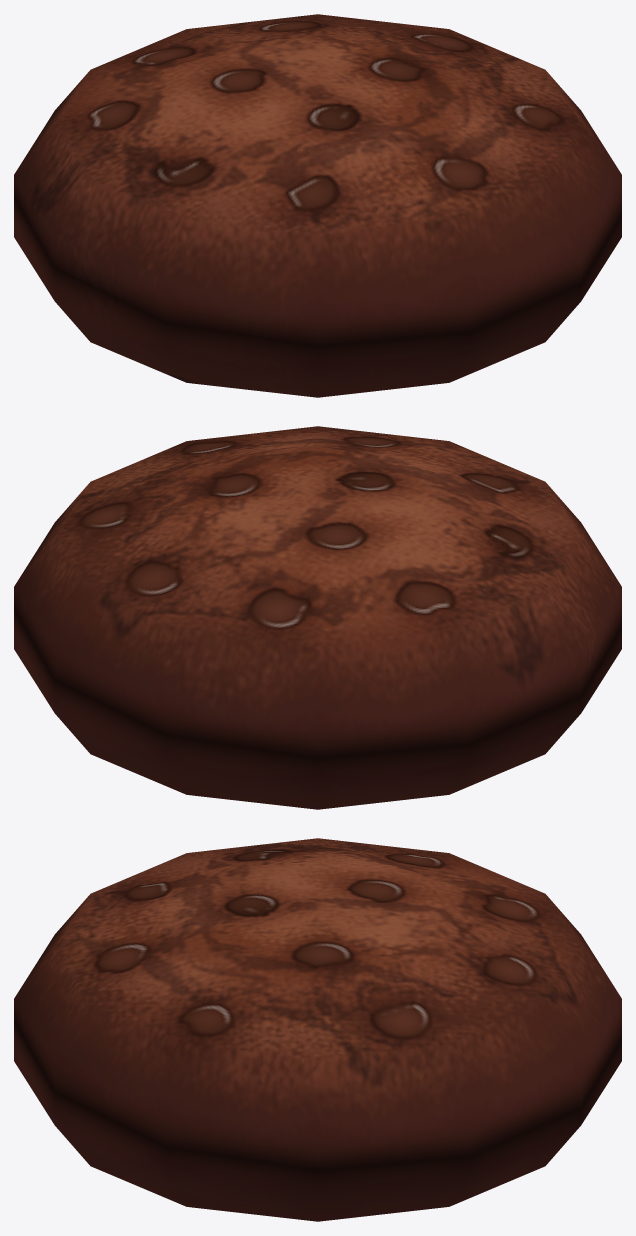
The model's file is 010-Cookies_01.FBX.
The picture shows the model from 3 angles, top to bottom: view 1: azimuth 30°, elevation 25°; view 2: azimuth 150°, elevation 25°; view 3: azimuth 270°, elevation 25°; orthographic projection.
Visible parts, largest first — view 1: 010-Cookies_01; view 2: 010-Cookies_01; view 3: 010-Cookies_01.
Boxes of the visible parts, box(x1,y1,x2,y2) form: 010-Cookies_01: box(14, 14, 621, 397); 010-Cookies_01: box(14, 426, 621, 809); 010-Cookies_01: box(14, 838, 621, 1221).
Bounding box in the file's own units: 16.04 × 6.18 × 16.04.
